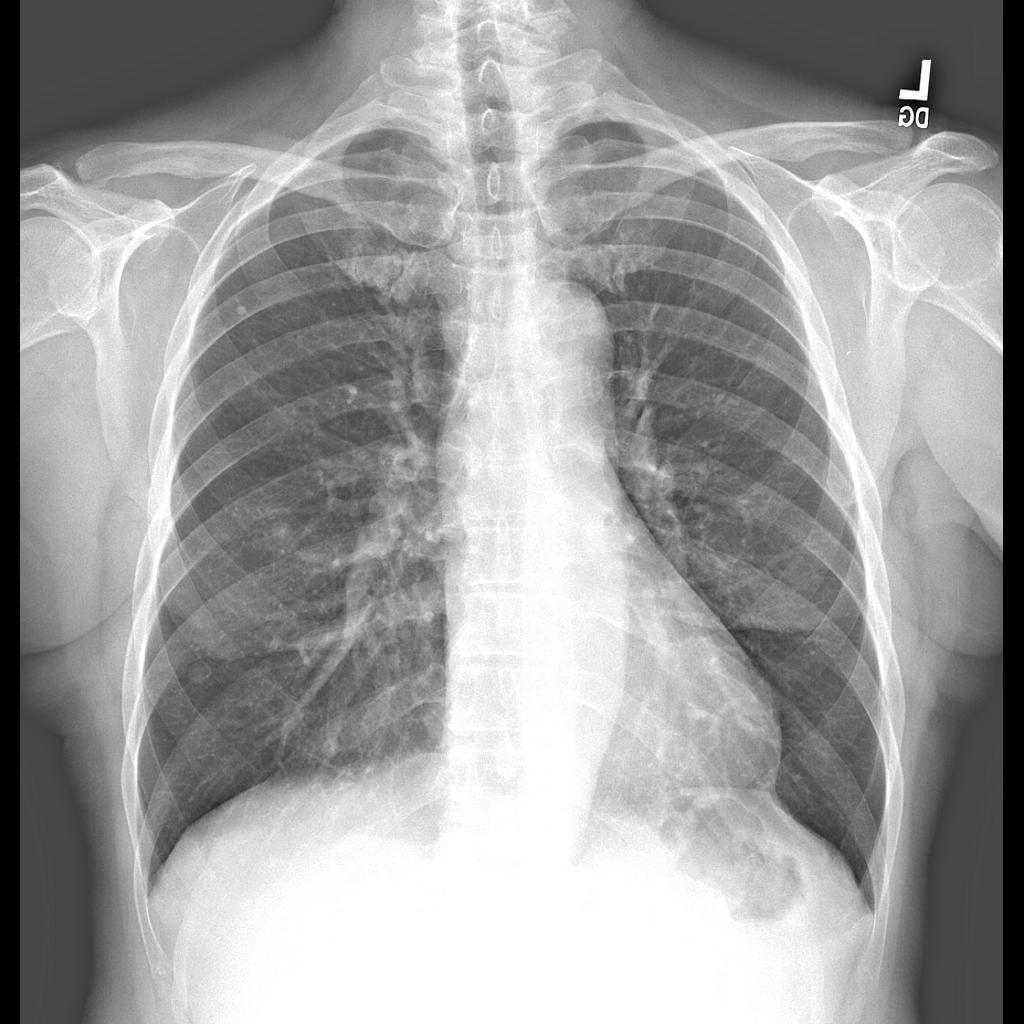Nodule: (180, 659, 224, 686), (270, 515, 302, 549)
